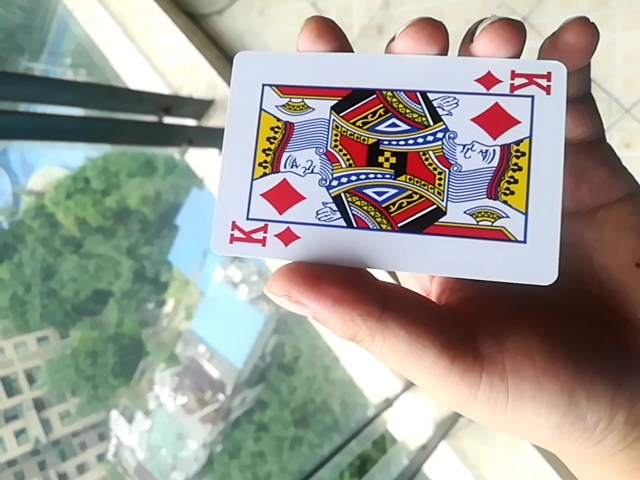fk k: (205, 51, 569, 285)
